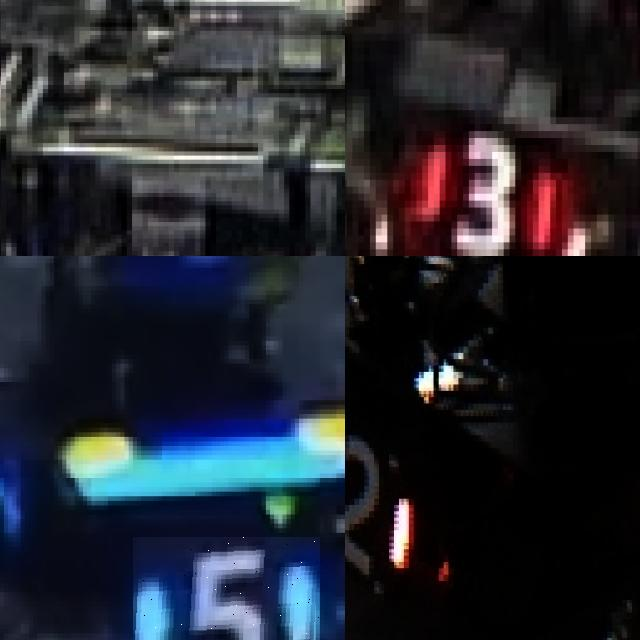B5: (133, 537, 320, 640)
R2: (345, 432, 406, 565)
R3: (410, 124, 556, 256)
